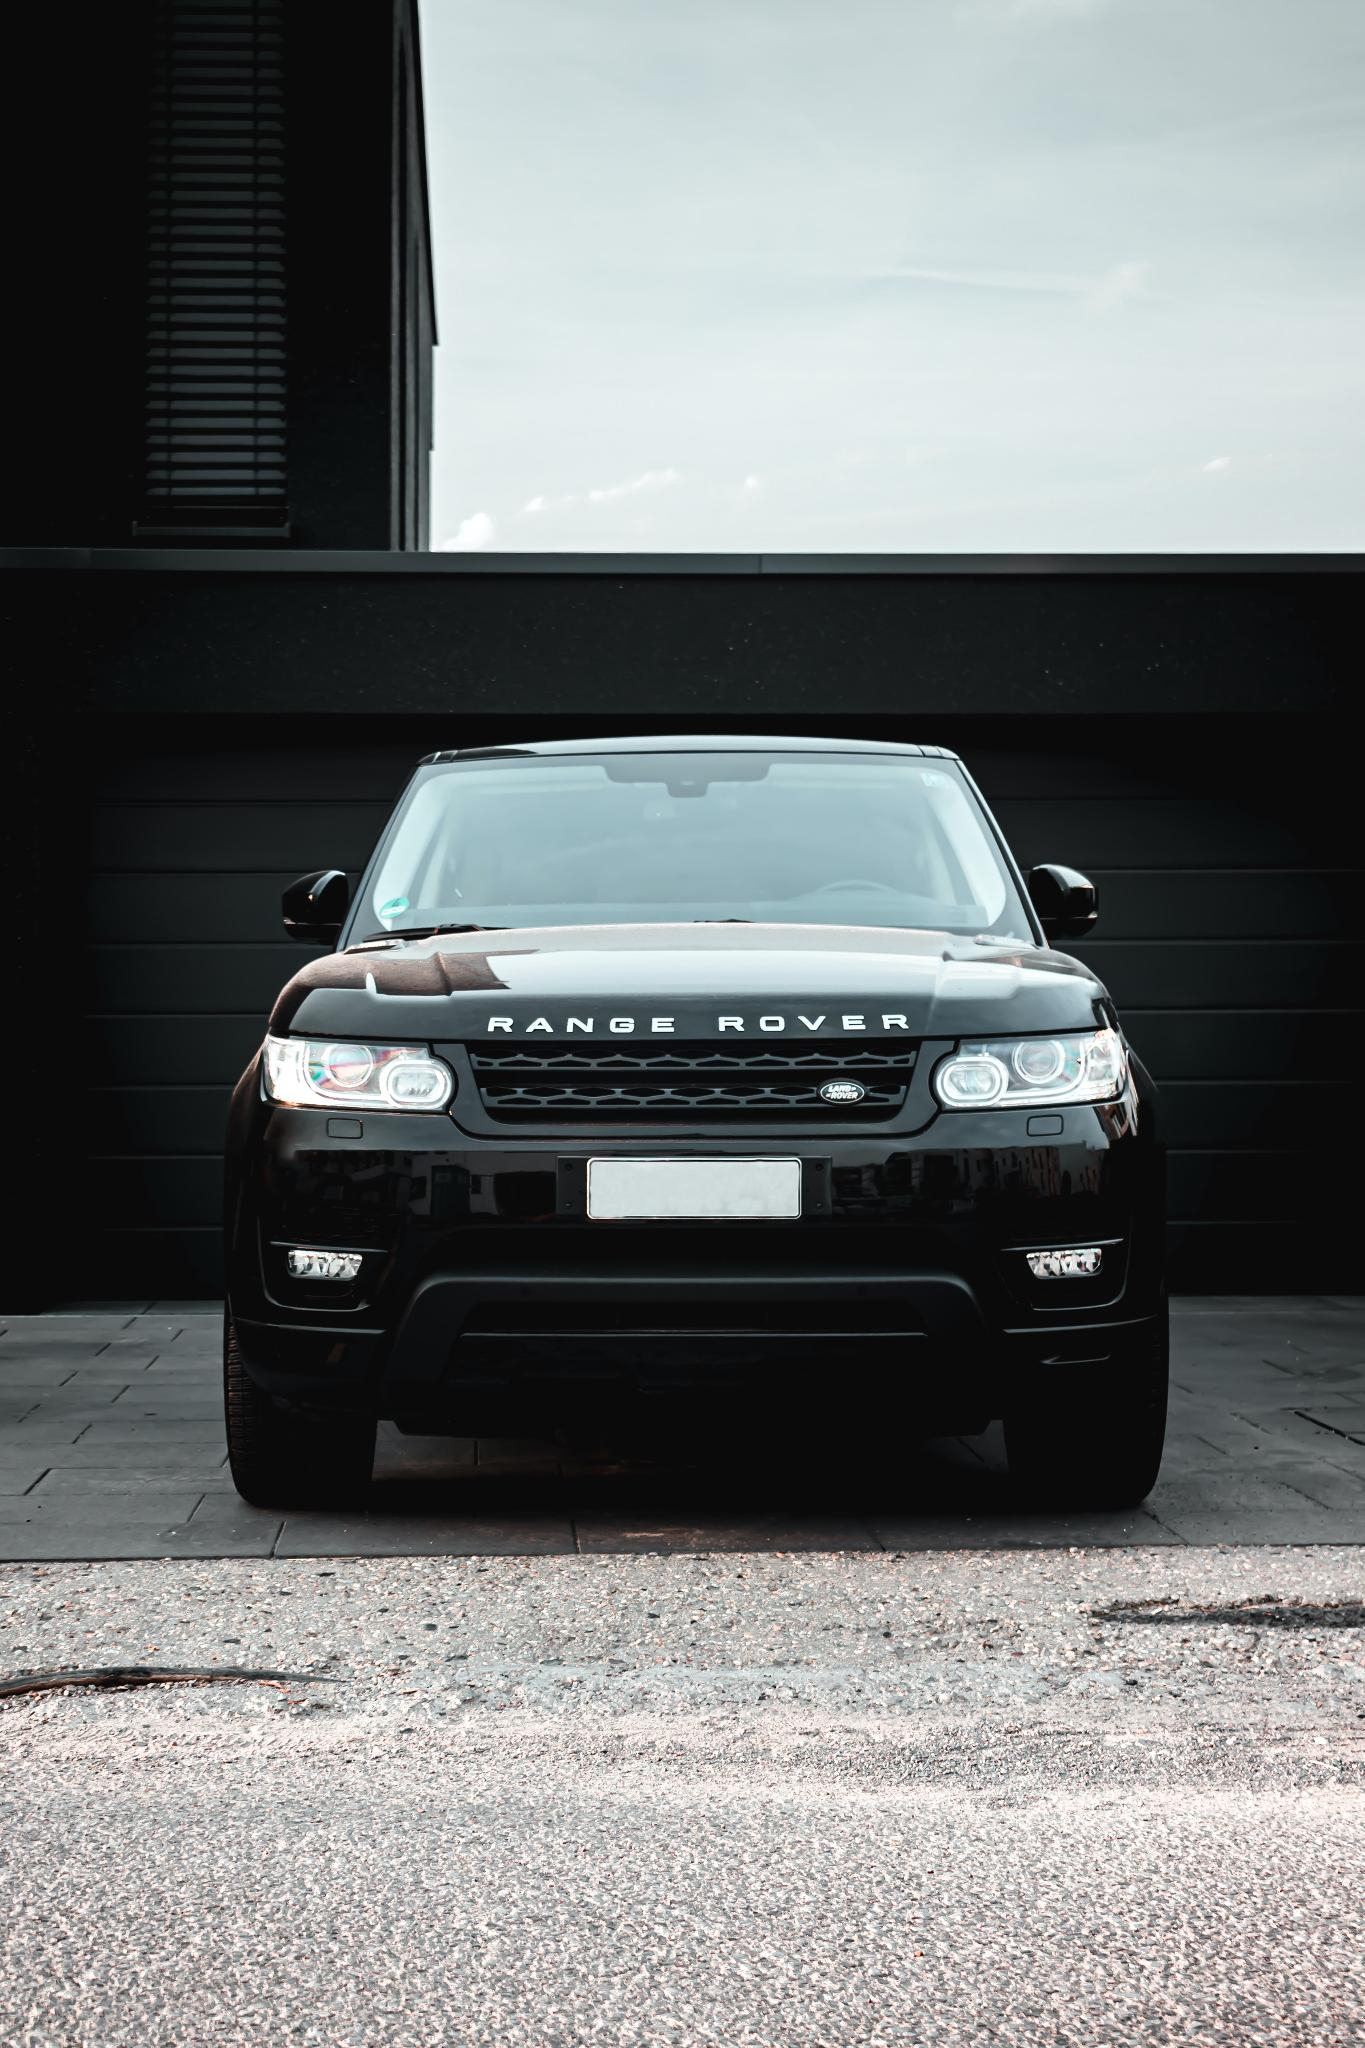range rover: (468, 996, 919, 1046)
